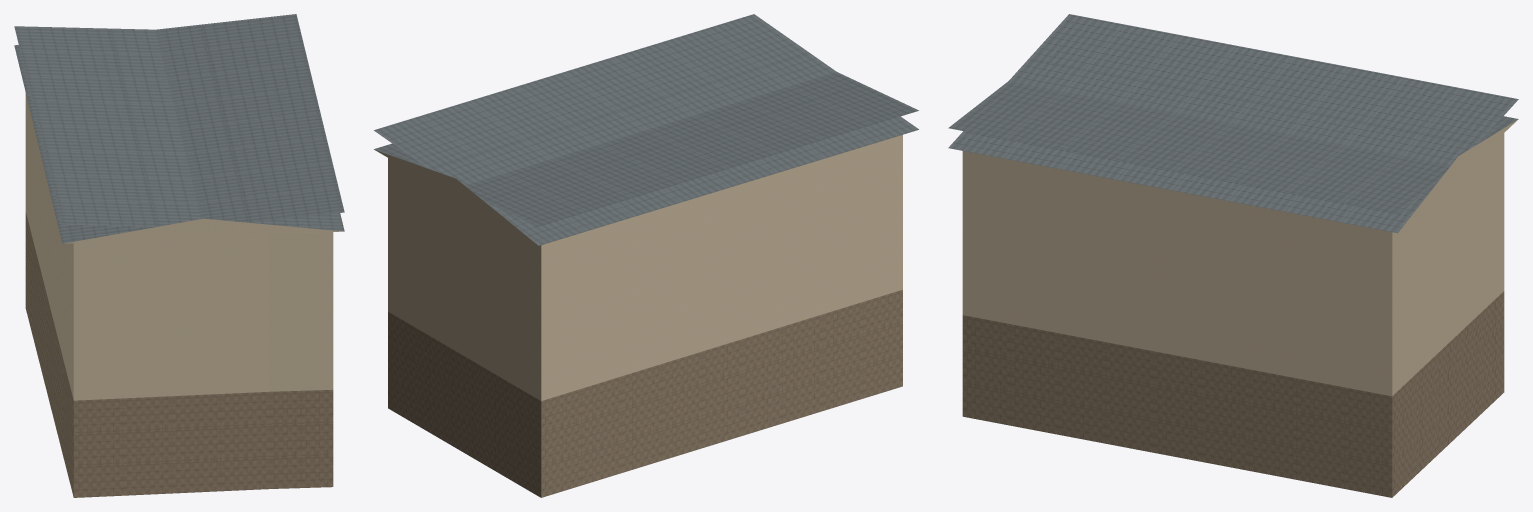
Rendered from bld_c10_31_412.gltf.
3 views of the same model, side by side, from view 1: azimuth 30°, elevation 25°; view 2: azimuth 150°, elevation 25°; view 3: azimuth 270°, elevation 25° (orthographic). The views are drawn at different scales.
Visible parts, largest first — view 1: bld_c10_31_412; view 2: bld_c10_31_412; view 3: bld_c10_31_412.
Part boxes in pixels (x1,y1,x2,y2): bld_c10_31_412: (14, 14, 344, 497); bld_c10_31_412: (374, 14, 918, 497); bld_c10_31_412: (948, 14, 1518, 497).
Size of the model in its own units: 21.47 by 14.6 by 25.98.
4 materials, 4 textured.
